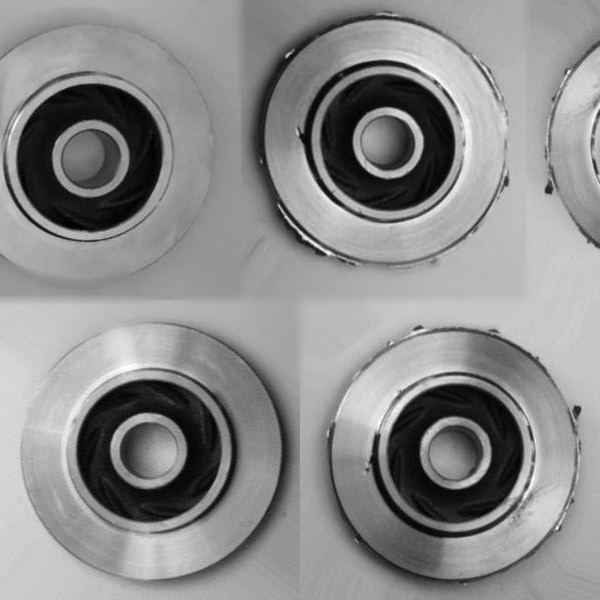pump_impeller: (18, 319, 286, 583), (325, 325, 582, 585), (257, 9, 510, 269), (2, 23, 216, 291)
